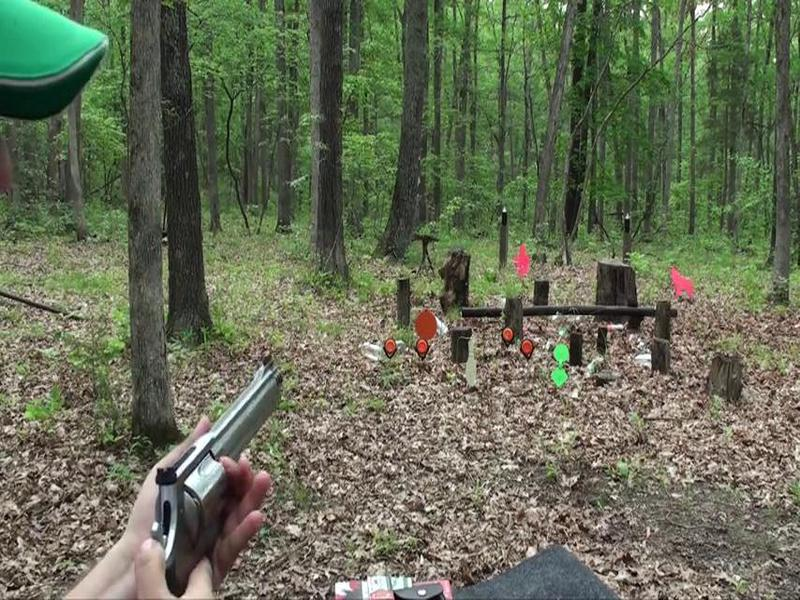Revolver: (139, 339, 291, 600)
